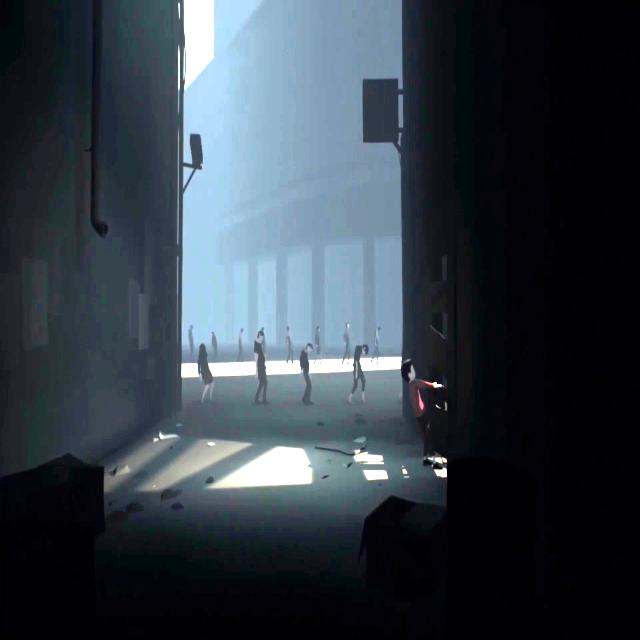boy: (401, 358, 447, 469)
zombie: (348, 345, 368, 403), (196, 340, 213, 404), (254, 332, 269, 404), (300, 343, 313, 405), (371, 326, 381, 365), (342, 321, 350, 365), (236, 328, 245, 362), (314, 326, 321, 364), (286, 326, 293, 363), (188, 325, 194, 363), (211, 331, 217, 362)
